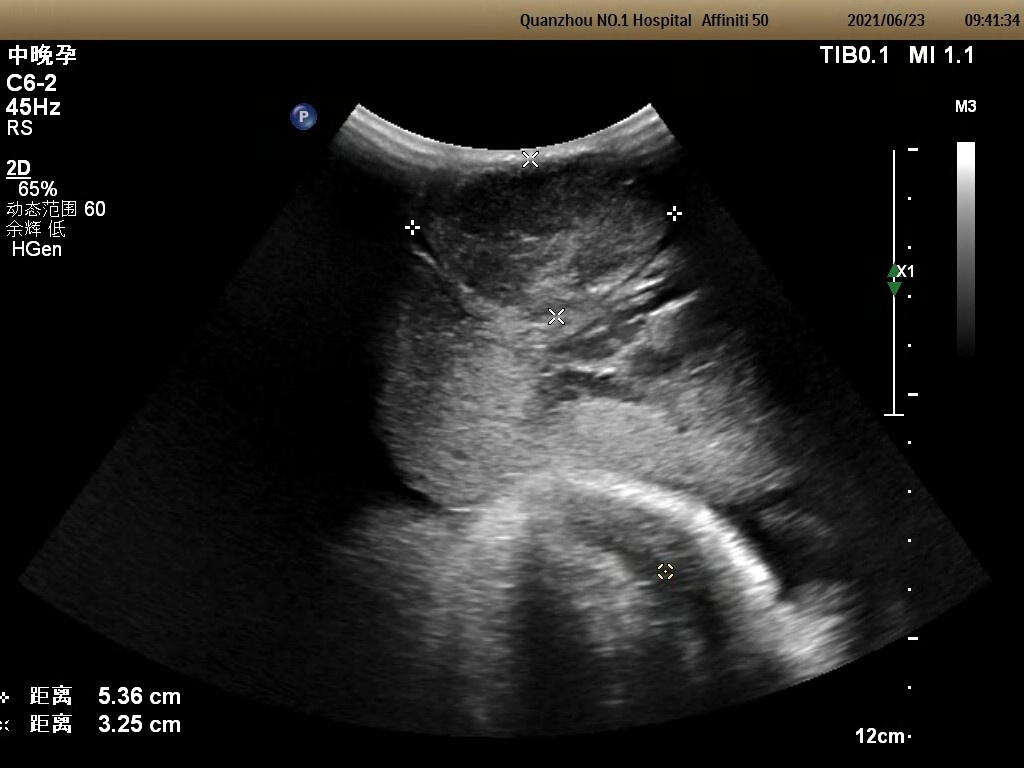肌瘤: (428, 176, 671, 306)
